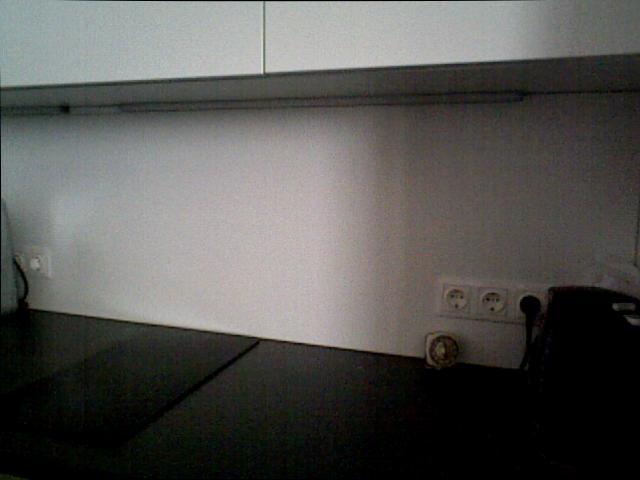giraffe: (422, 331, 465, 373)
